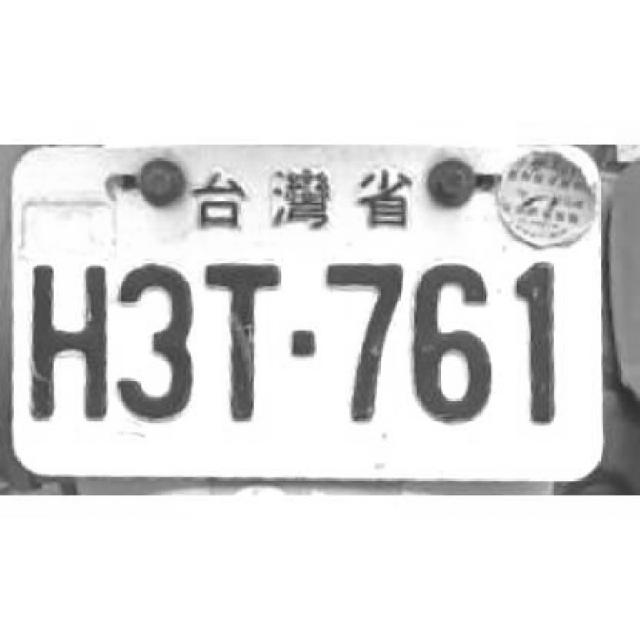-: (292, 331, 317, 357)
1: (514, 260, 558, 425)
3: (116, 263, 196, 420)
6: (414, 259, 494, 426)
7: (326, 265, 405, 423)
H: (29, 260, 109, 422)
T: (205, 263, 283, 423)
